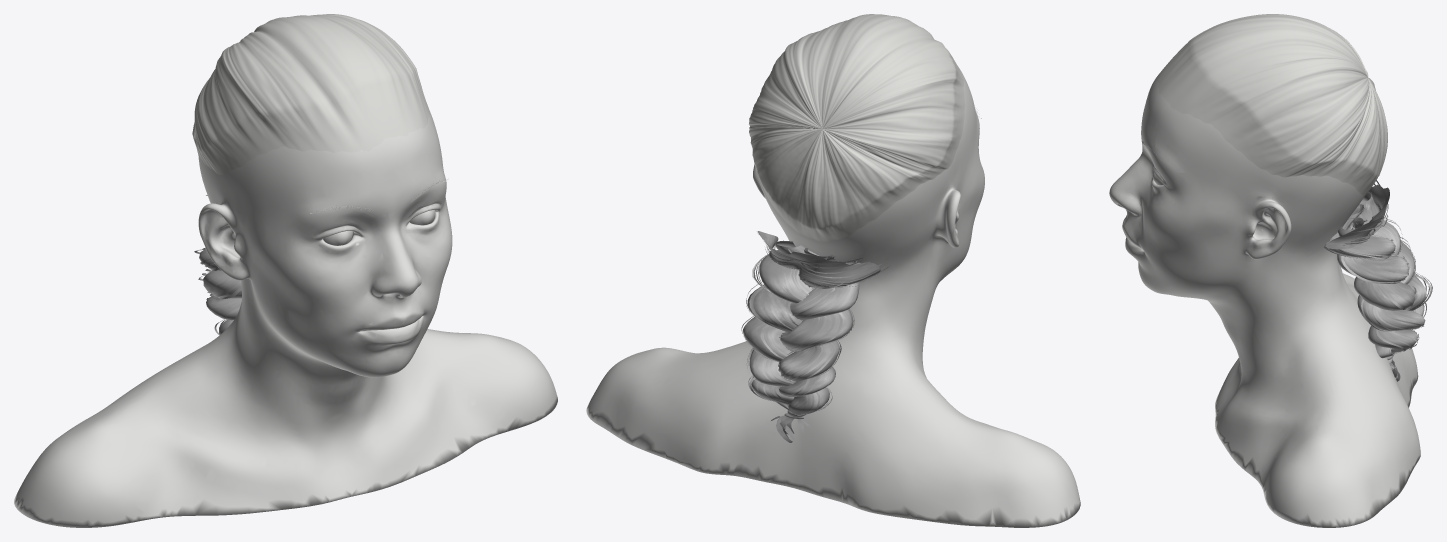
File: editorial-female.glb
3 renders of one model, left to right at view 1: azimuth 30°, elevation 25°; view 2: azimuth 150°, elevation 25°; view 3: azimuth 270°, elevation 25°, orthographic. The views are drawn at different scales.
Visible parts, largest first — view 1: Blender Studio sculpt surface, Cephra groom swept scalp, Cephra groom braid; view 2: Blender Studio sculpt surface, Cephra groom swept scalp, Cephra groom braid; view 3: Blender Studio sculpt surface, Cephra groom swept scalp, Cephra groom braid.
Boxes of the visible parts, bbox=[...] form: Blender Studio sculpt surface: bbox=[14, 111, 557, 527]; Cephra groom swept scalp: bbox=[192, 14, 429, 175]; Cephra groom braid: bbox=[194, 195, 241, 335]; Blender Studio sculpt surface: bbox=[586, 70, 1080, 527]; Cephra groom swept scalp: bbox=[749, 14, 965, 241]; Cephra groom braid: bbox=[741, 231, 890, 442]; Blender Studio sculpt surface: bbox=[1109, 77, 1420, 527]; Cephra groom swept scalp: bbox=[1154, 14, 1387, 197]; Cephra groom braid: bbox=[1324, 180, 1432, 381].
Bounding box in the file's own units: 0.4026 × 0.3292 × 0.2445.
4 materials, 1 textured.
